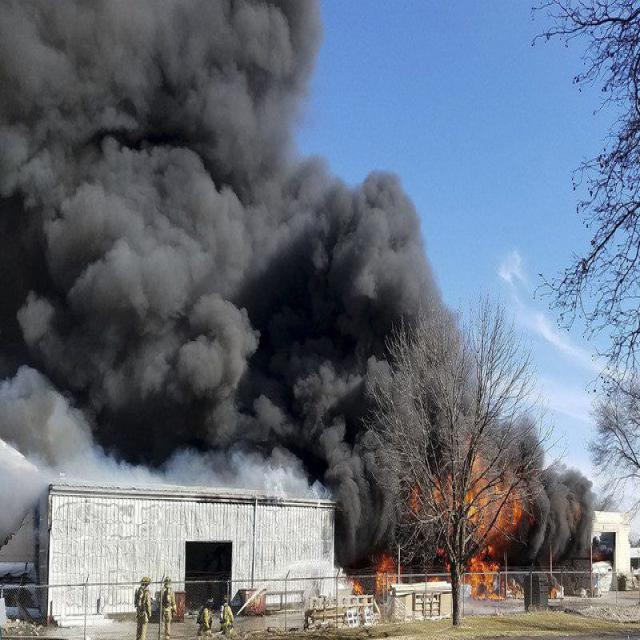fire: (466, 458, 527, 548), (463, 553, 502, 603), (370, 552, 406, 598), (431, 471, 455, 515), (408, 481, 422, 514), (345, 576, 366, 596), (550, 584, 558, 600)
